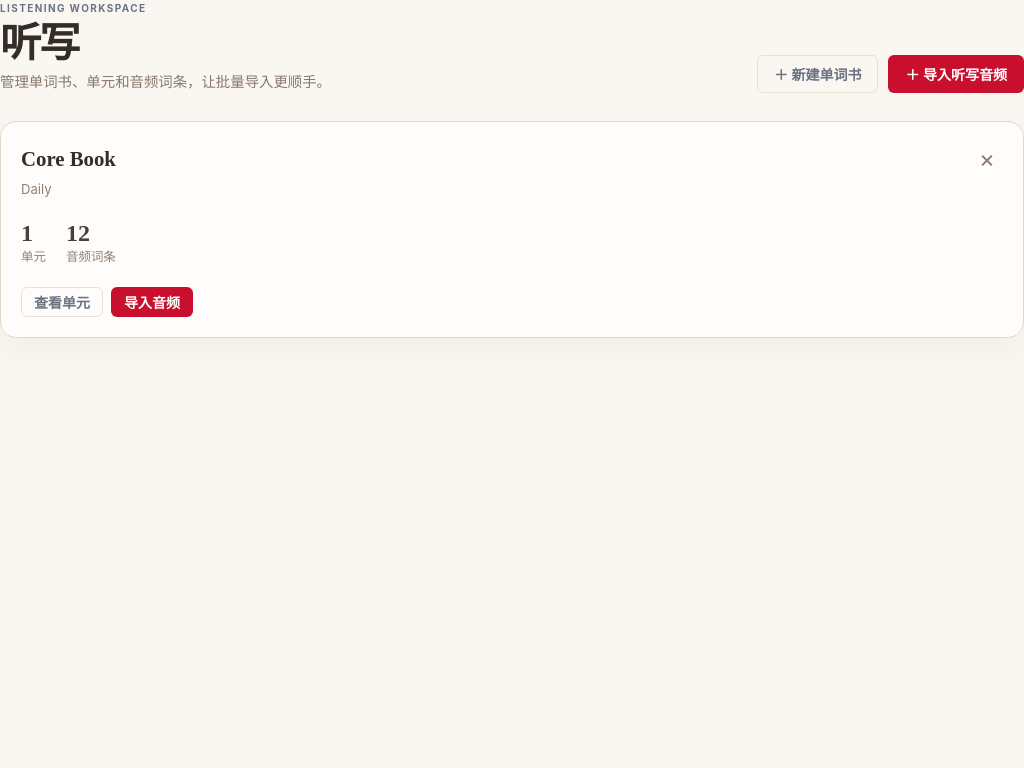
Test: DictationAdmin › renders book overview and opens the import drawer
Expected: the heading "Core Book" is shown, [21,142,116,175]
What coordinates should you click on to do the following:
click the button "＋ 导入听写音频"
I would click on:
 (956, 74)
Its box is [888,55,1023,93].
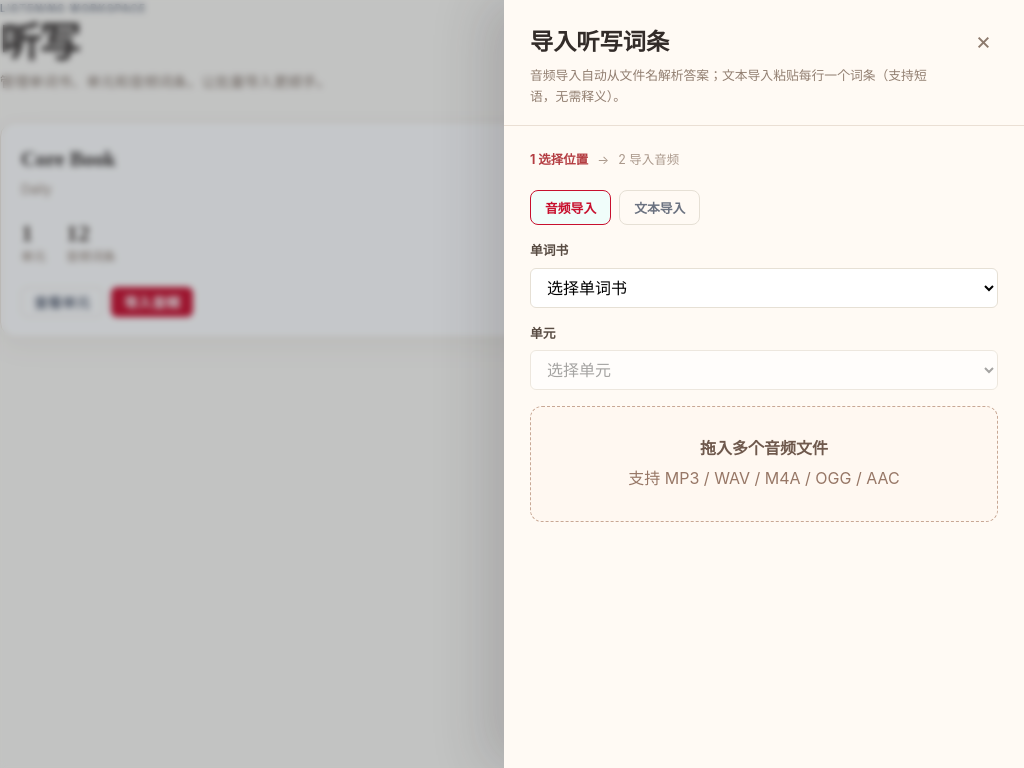
Expected: the dialog "导入听写词条" is shown, [504,0,1023,767]
